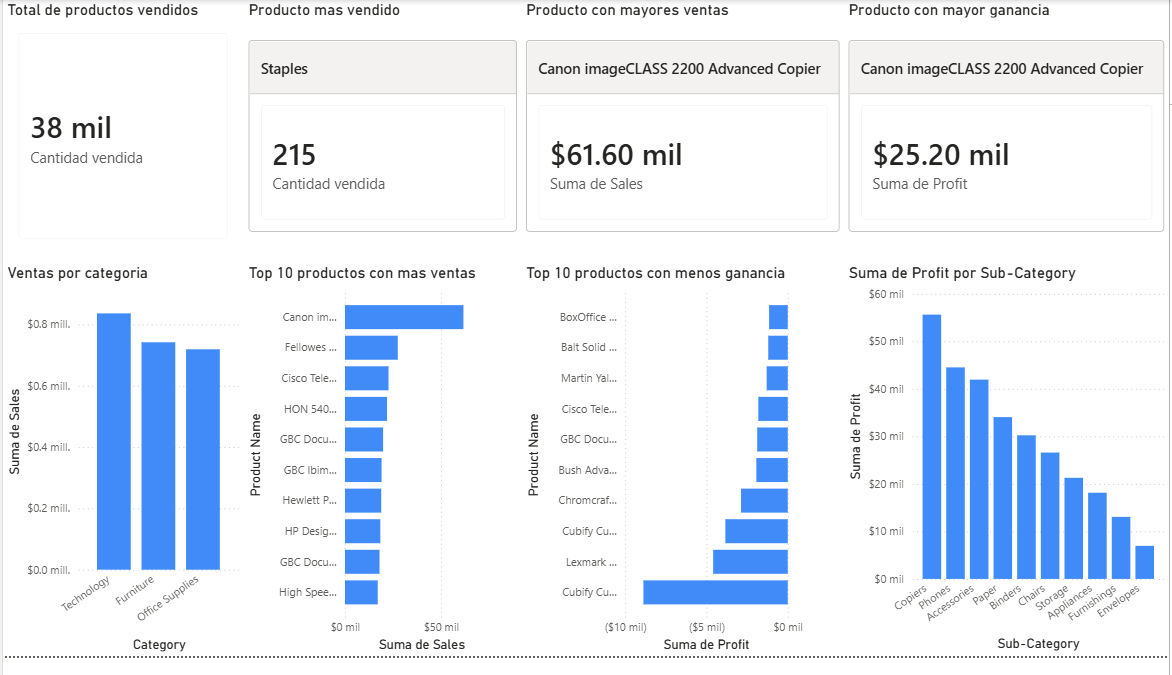

What the dashboard file says about the page in this screenshot:
{"tool":"powerbi","page":{"name":"Página 2 - Análisis de productos","canvas":[1280,720],"ordinal":1},"visuals":[{"type":"cardVisual","title":"Total de productos vendidos","fields":{"Data":["Sample - Superstore.Cantidad vendida"]},"box":[0,0,264.8,279.9],"z":0},{"type":"columnChart","title":"Ventas por categoria","fields":{"Y":["Sum(Sample - Superstore.Sales)"],"Category":["Sample - Superstore.Category"]},"box":[0,289.5,264.8,430.9],"z":1000},{"type":"cardVisual","title":"Producto mas vendido","fields":{"Rows":["Sample - Superstore.Product Name"],"Data":["Sample - Superstore.Cantidad vendida"]},"box":[264.8,0,304.6,279.9],"z":2000},{"type":"cardVisual","title":"Producto con mayores ventas","fields":{"Rows":["Sample - Superstore.Product Name"],"Data":["Sum(Sample - Superstore.Sales)"]},"box":[569.5,0,354,279.9],"z":3000},{"type":"cardVisual","title":"Producto con mayor ganancia","fields":{"Rows":["Sample - Superstore.Product Name"],"Data":["Sum(Sample - Superstore.Profit)"]},"box":[923.5,0,356.8,279.9],"z":4000},{"type":"barChart","title":"Top 10 productos con mas ventas","fields":{"Y":["Sum(Sample - Superstore.Sales)"],"Category":["Sample - Superstore.Product Name"]},"box":[264.8,289.5,304.6,430.9],"z":5000},{"type":"barChart","title":"Top 10 productos con menos ganancia","fields":{"Y":["Sum(Sample - Superstore.Profit)"],"Category":["Sample - Superstore.Product Name"]},"box":[569.5,289.5,314.2,430.9],"z":6000},{"type":"columnChart","fields":{"Category":["Sample - Superstore.Sub-Category"],"Y":["Sum(Sample - Superstore.Profit)"]},"box":[924,290,356,430],"z":7000}]}

Visuals, with their boxes in screenshot pixels (x1, y1, x2, y2), scaled from the page's 1280x720 canvas onto the 1172x675 screenshot:
"Total de productos vendidos" cardVisual: locate(0, 0, 242, 262)
"Ventas por categoria" columnChart: locate(0, 271, 242, 674)
"Producto mas vendido" cardVisual: locate(242, 0, 521, 262)
"Producto con mayores ventas" cardVisual: locate(521, 0, 846, 262)
"Producto con mayor ganancia" cardVisual: locate(846, 0, 1171, 262)
"Top 10 productos con mas ventas" barChart: locate(242, 271, 521, 674)
"Top 10 productos con menos ganancia" barChart: locate(521, 271, 809, 674)
columnChart - Sample - Superstore.Sub-Category x Sum(Sample - Superstore.Profit): locate(846, 272, 1171, 674)
